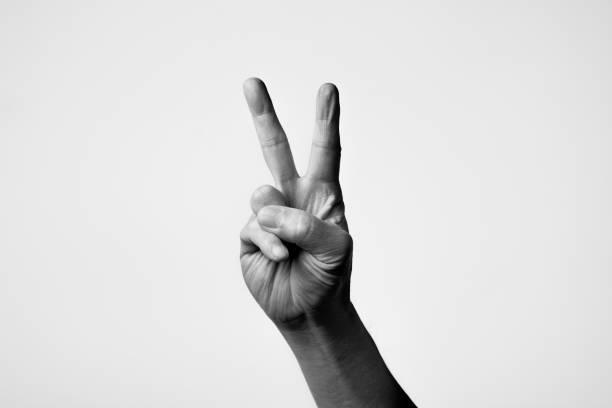peace_sign: (233, 72, 370, 330)
